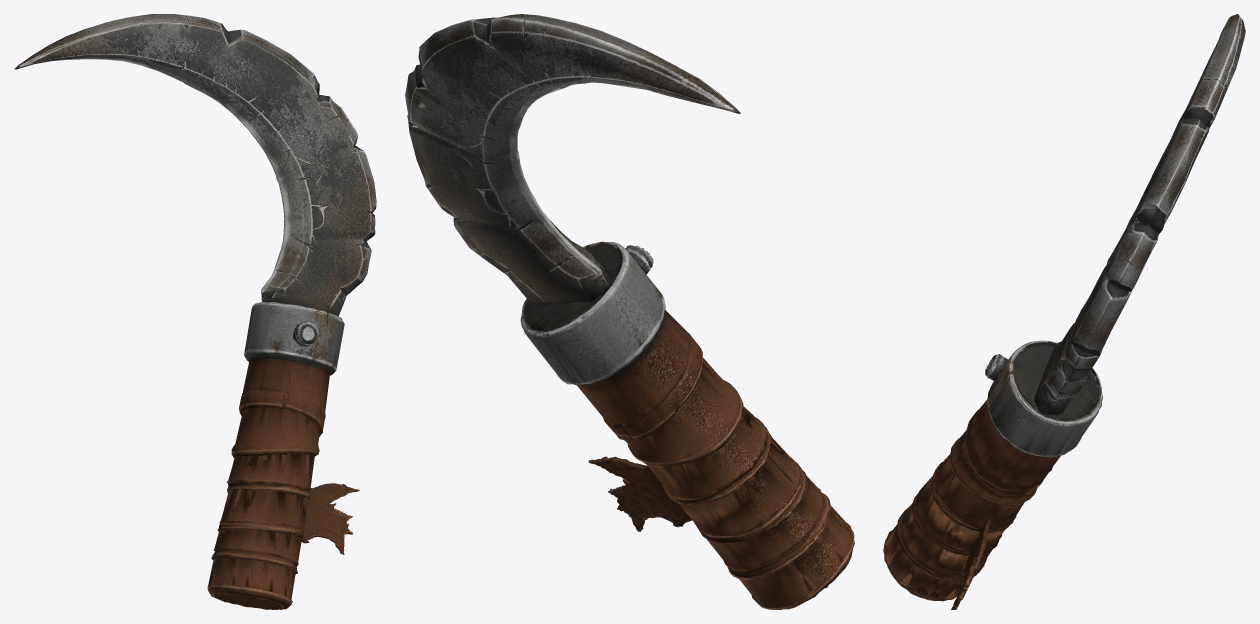
File: hoe.fbx
The picture shows the model from 3 angles, left to right: view 1: azimuth 30°, elevation 25°; view 2: azimuth 150°, elevation 25°; view 3: azimuth 270°, elevation 25°; orthographic projection. The views are drawn at different scales.
Visible parts, largest first — view 1: tripo_node_97fbf3eb; view 2: tripo_node_97fbf3eb; view 3: tripo_node_97fbf3eb.
Boxes of the visible parts, box(x1,y1,x2,y2) form: tripo_node_97fbf3eb: box(14, 14, 376, 609); tripo_node_97fbf3eb: box(405, 14, 854, 609); tripo_node_97fbf3eb: box(883, 14, 1245, 609).
Size of the model in its own units: 0.623 by 0.998 by 0.5957.
Materials: 1 (1 with a texture image).
